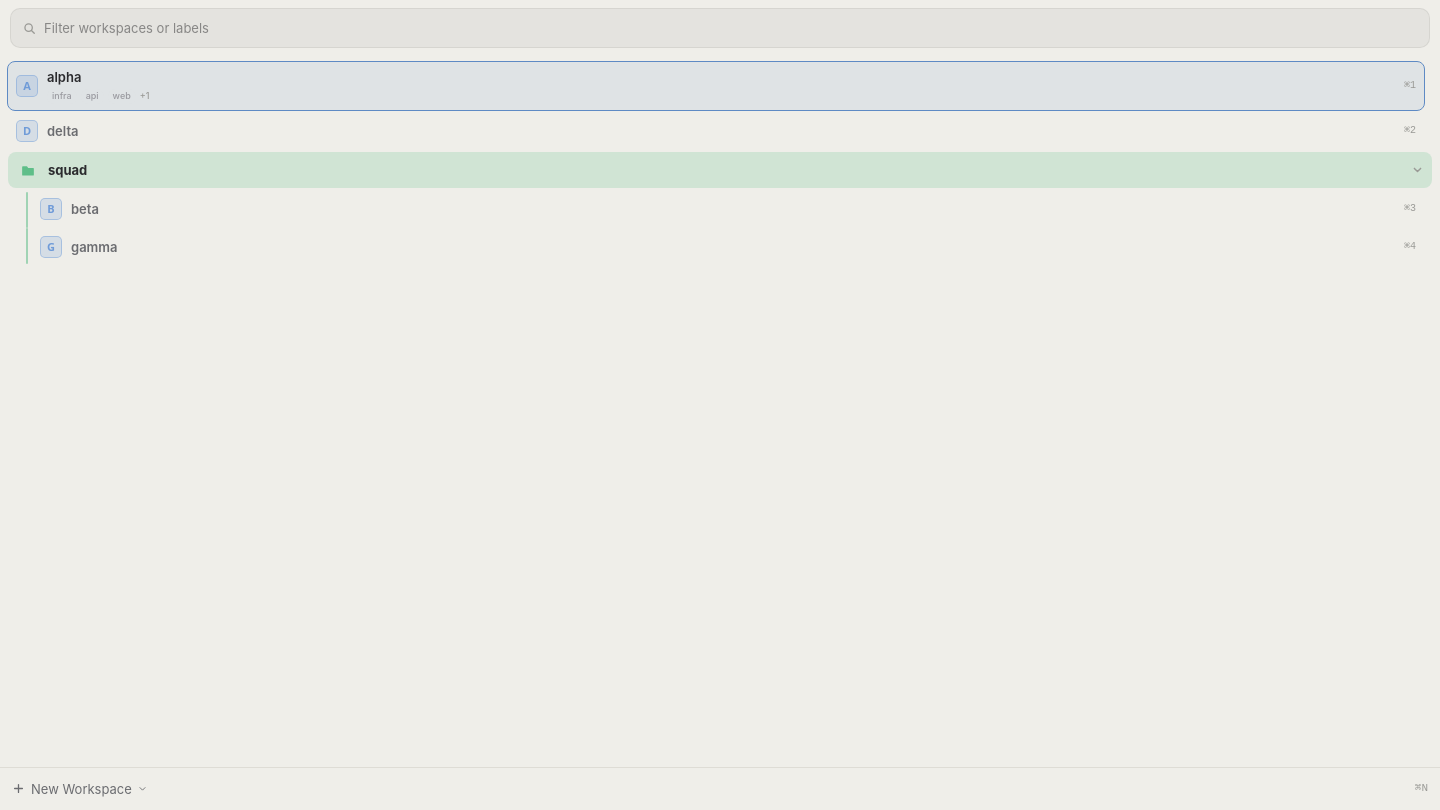
Test: context menus (portal-based) › sets a color through the submenu
The width and height of the screenshot is (1440, 810).
Right-click the option with test id "workspace-row" showing "A alpha infra api web +1 ⌘1" at (64, 77), box 8,62 -> 1424,110
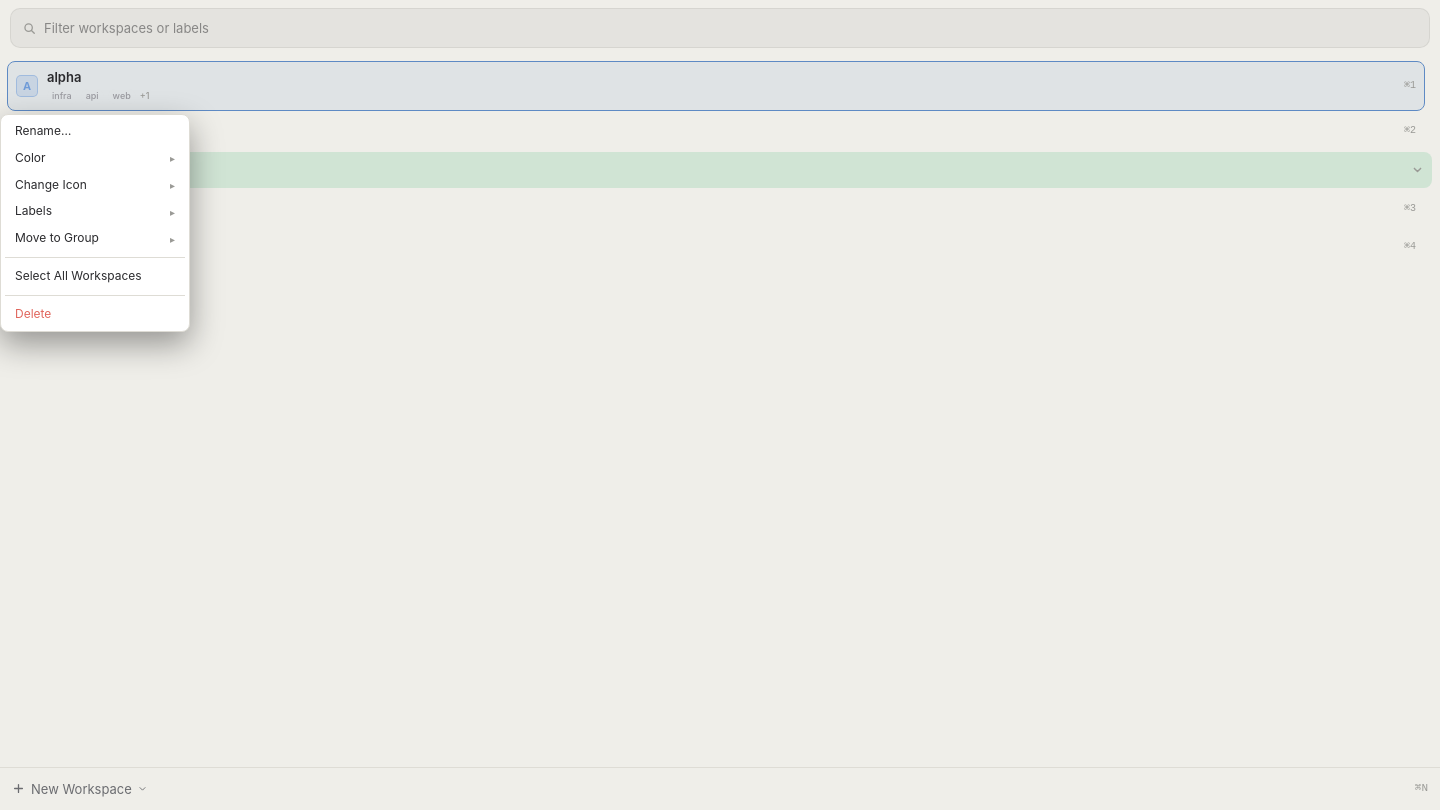
Hover over the text "Color" at (30, 157), box 15,150 -> 46,165
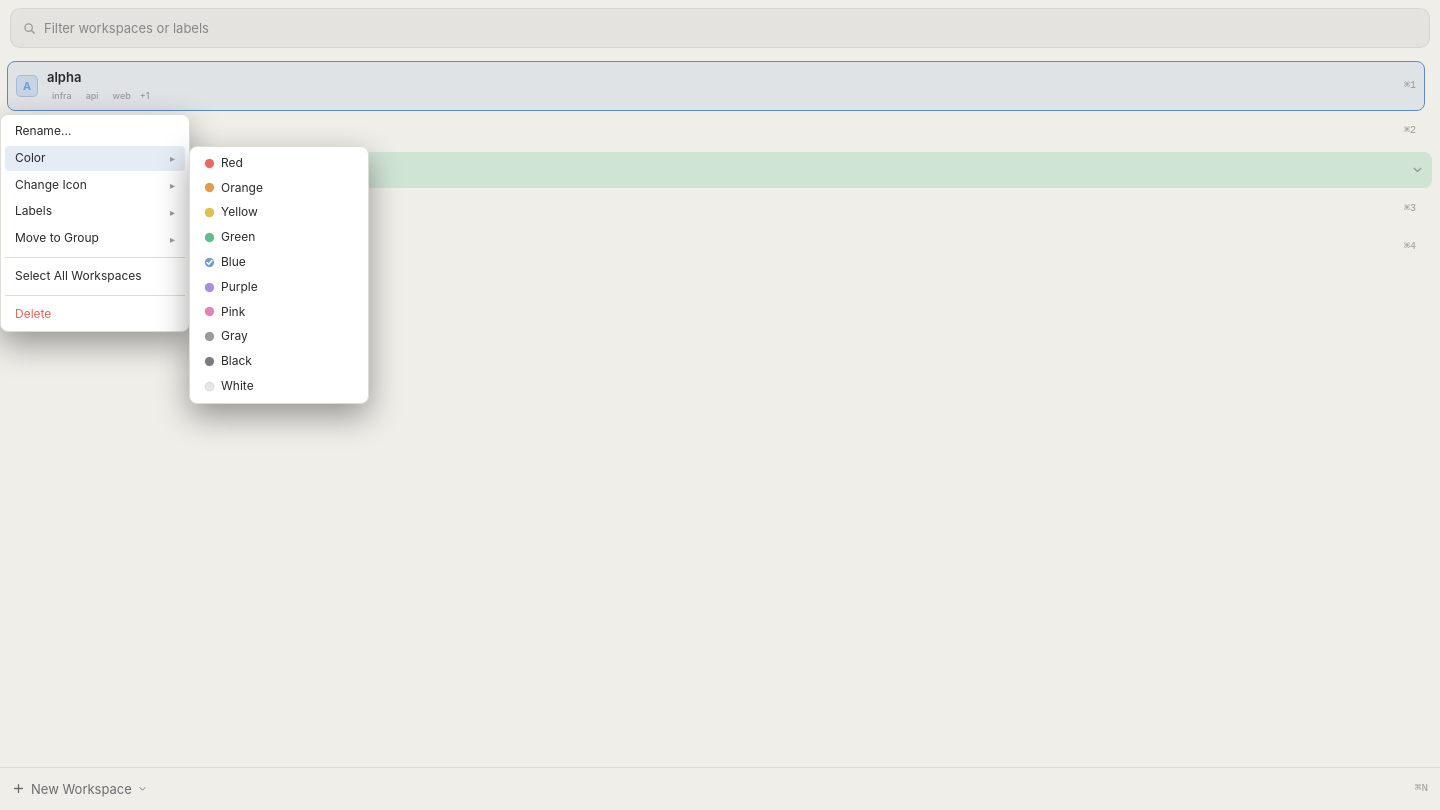
Note: M3: the row READS `WorkspaceColor.displayName` — "Purple" — and still SENDS `purple`.
Click the menu item "Purple" at (279, 287), box 194,275 -> 364,300
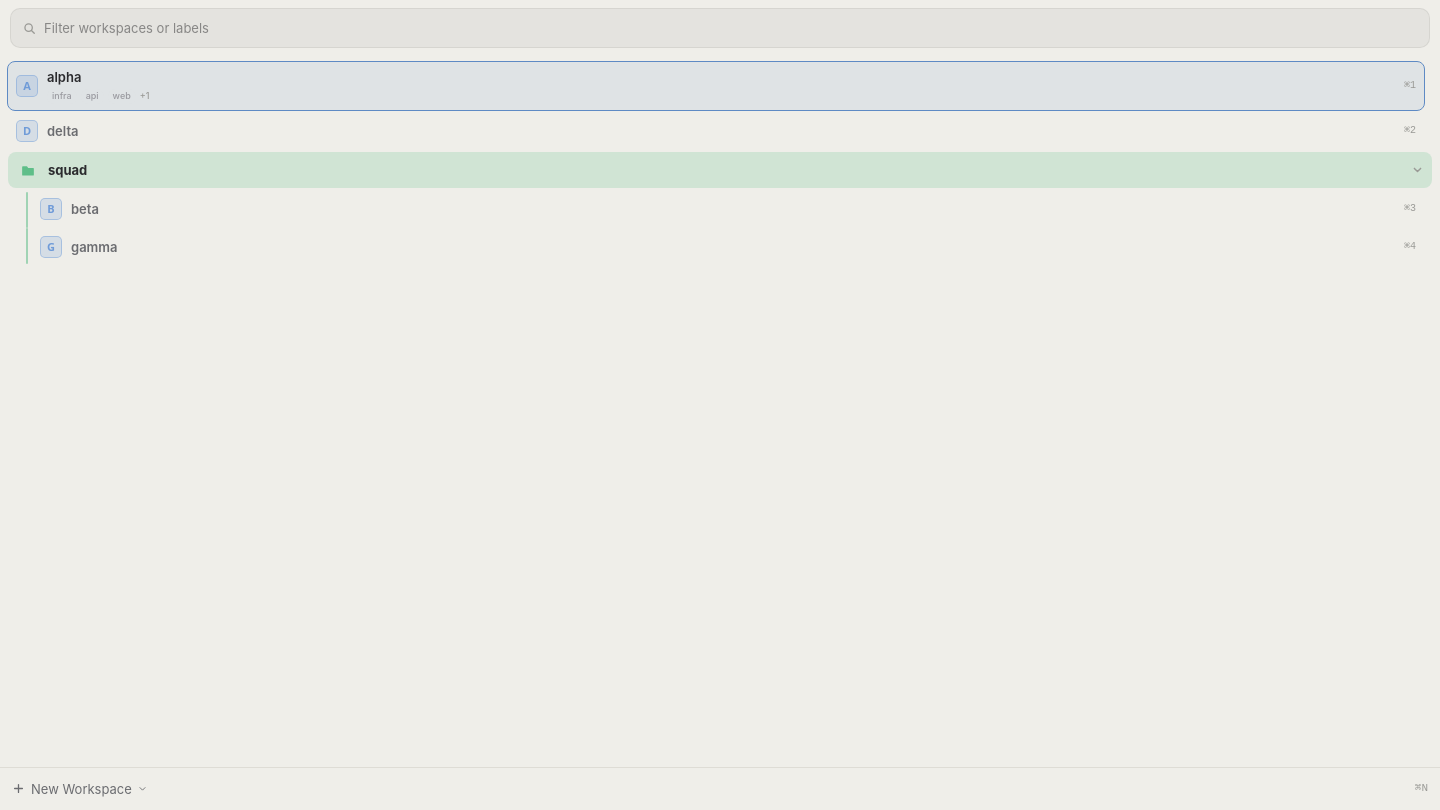
Expected: the menu with test id "context-menu" is gone
